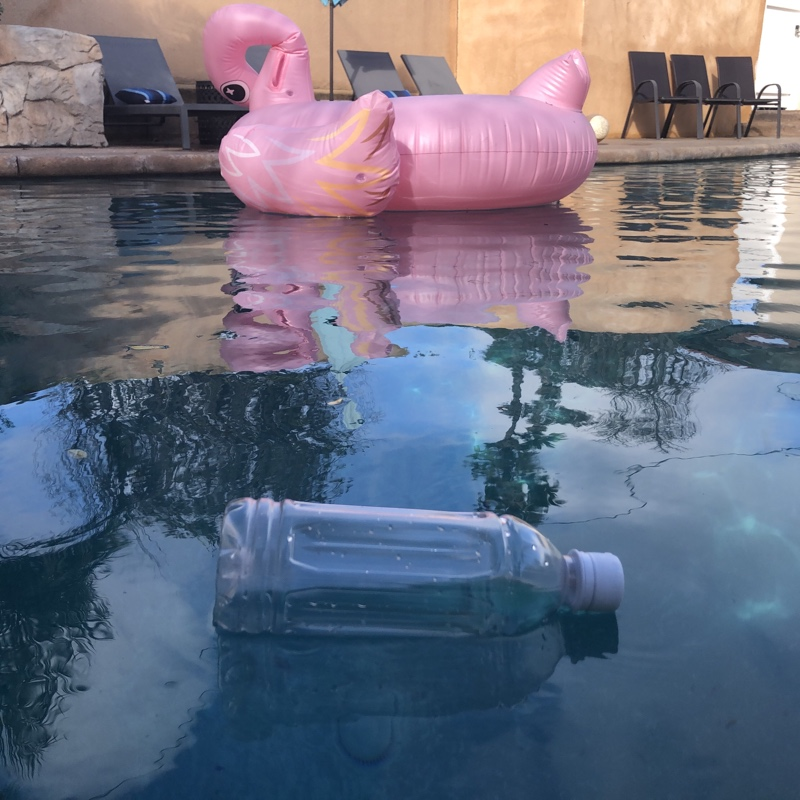Plastic Bottle: (207, 482, 630, 664)
